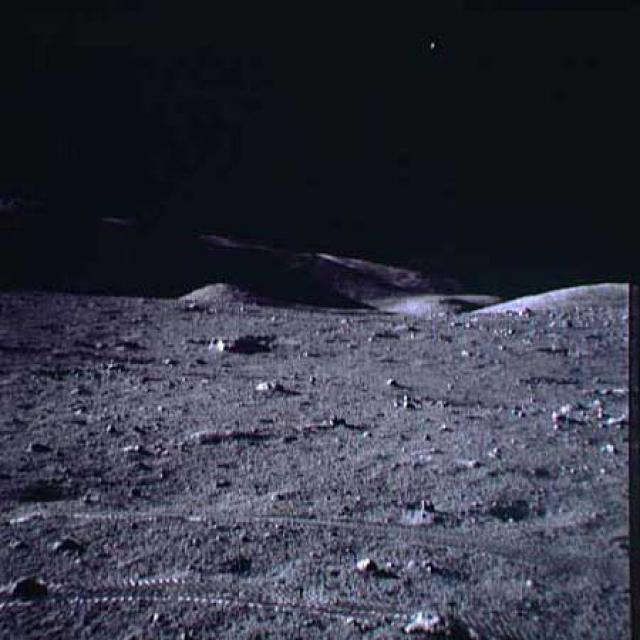crater: (476, 491, 608, 532)
rock: (169, 274, 260, 305), (400, 606, 460, 638), (218, 326, 265, 355), (253, 376, 282, 396), (371, 322, 399, 340), (385, 374, 398, 386)
